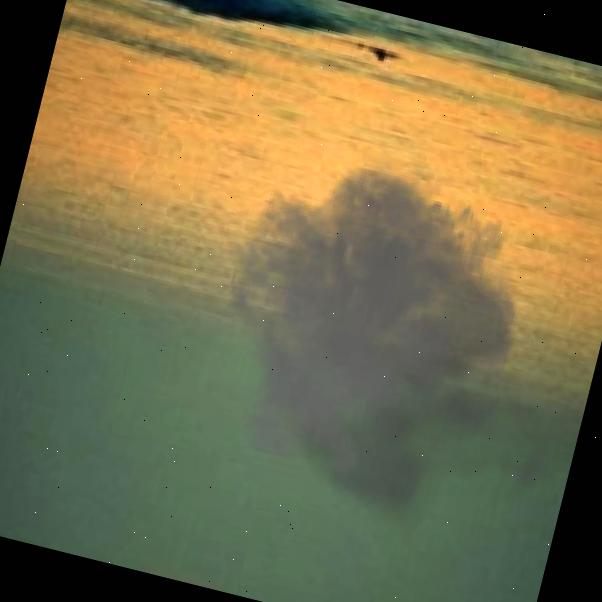smoke: (171, 113, 602, 570)
